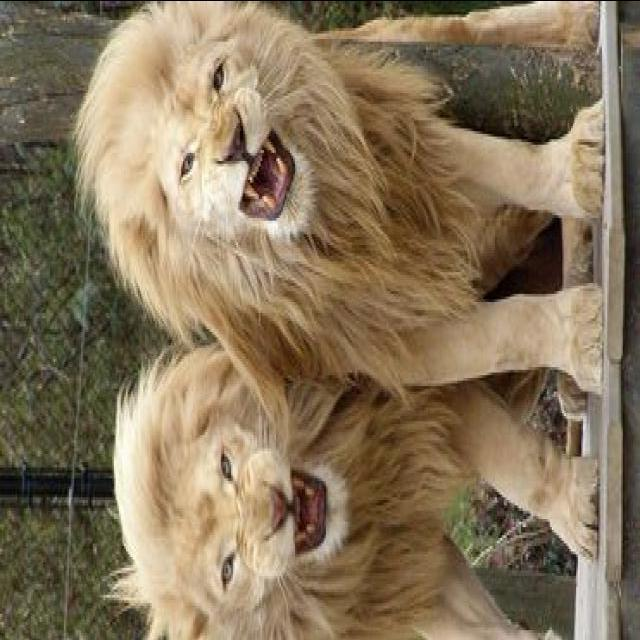lions: (4, 0, 640, 640)
